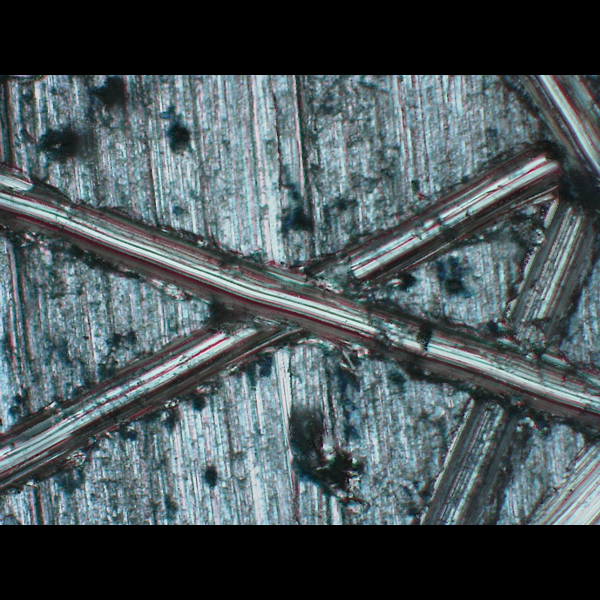d: (1, 152, 599, 514)
